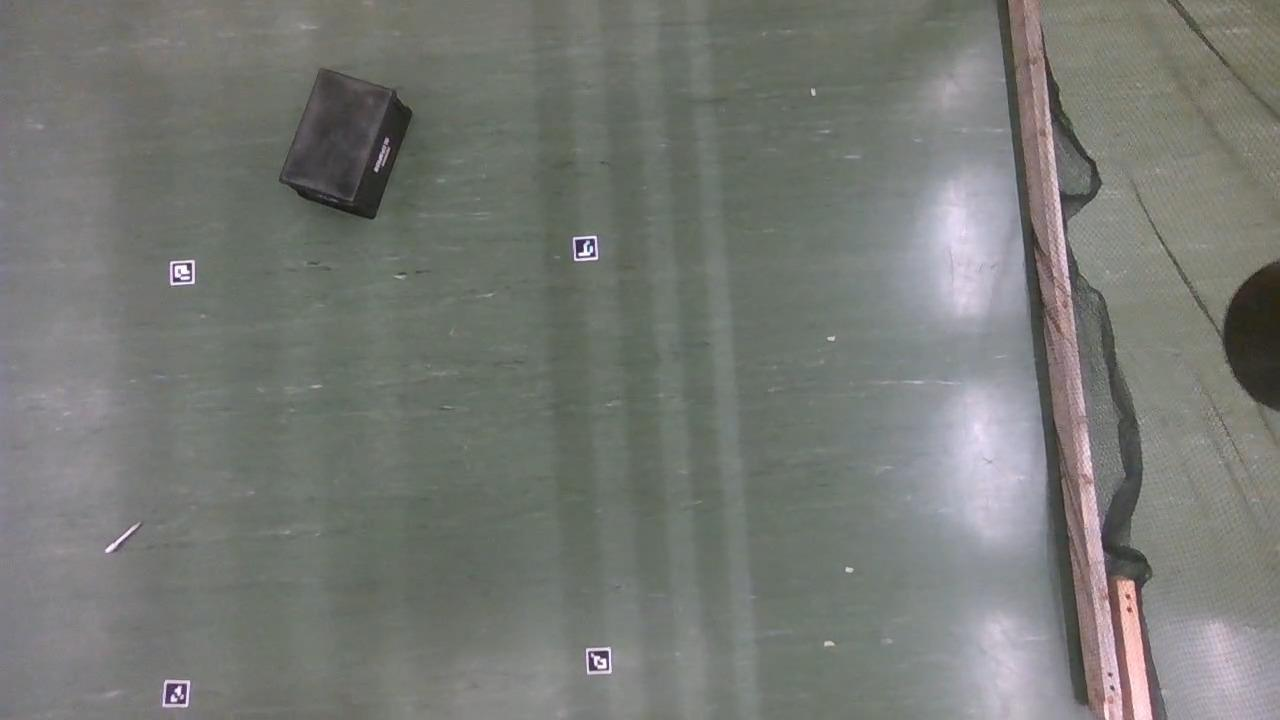probes: (103, 520, 142, 554)
rako: (278, 68, 412, 220)
